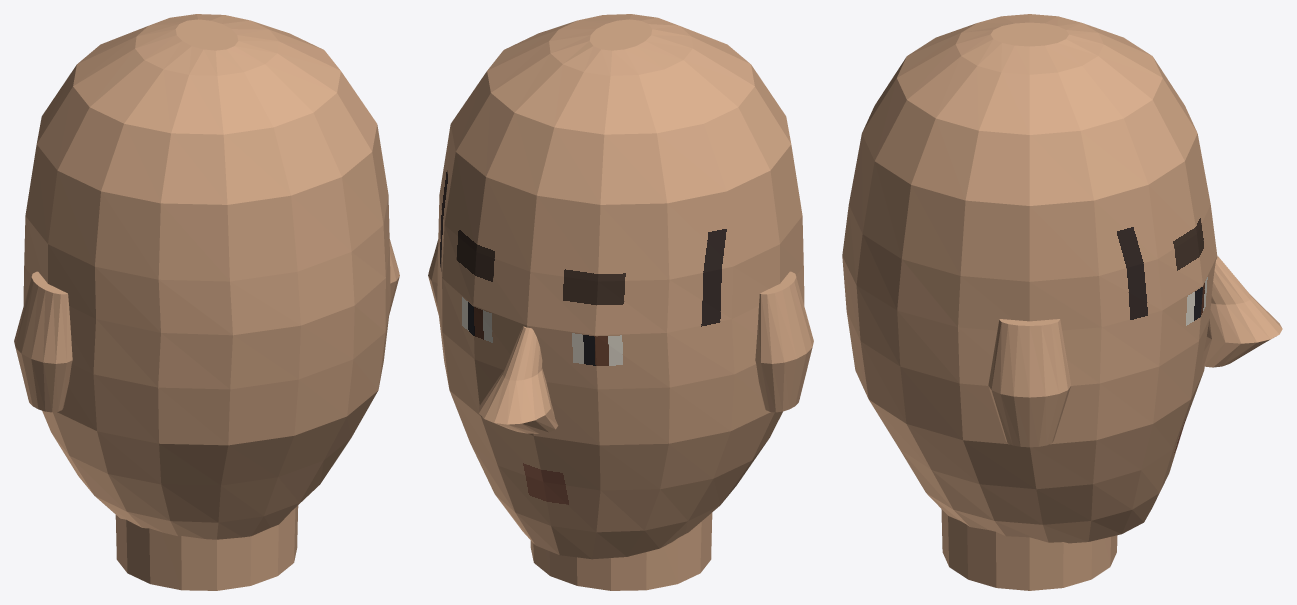
3 renders of one model, left to right at view 1: azimuth 30°, elevation 25°; view 2: azimuth 150°, elevation 25°; view 3: azimuth 270°, elevation 25°, orthographic.
Visible parts, largest first — view 1: 精细成年头部母版 · 共享面孔格0; view 2: 精细成年头部母版 · 共享面孔格0; view 3: 精细成年头部母版 · 共享面孔格0.
Part boxes in pixels (x1=…): 精细成年头部母版 · 共享面孔格0: x1=14, y1=14, x2=399, y2=590; 精细成年头部母版 · 共享面孔格0: x1=428, y1=14, x2=813, y2=590; 精细成年头部母版 · 共享面孔格0: x1=842, y1=14, x2=1282, y2=590.
Size of the model in its own units: 0.196 by 0.262 by 0.202.
3 materials, 3 textured.
